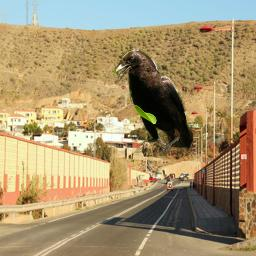Crow: (113, 48, 193, 156)
